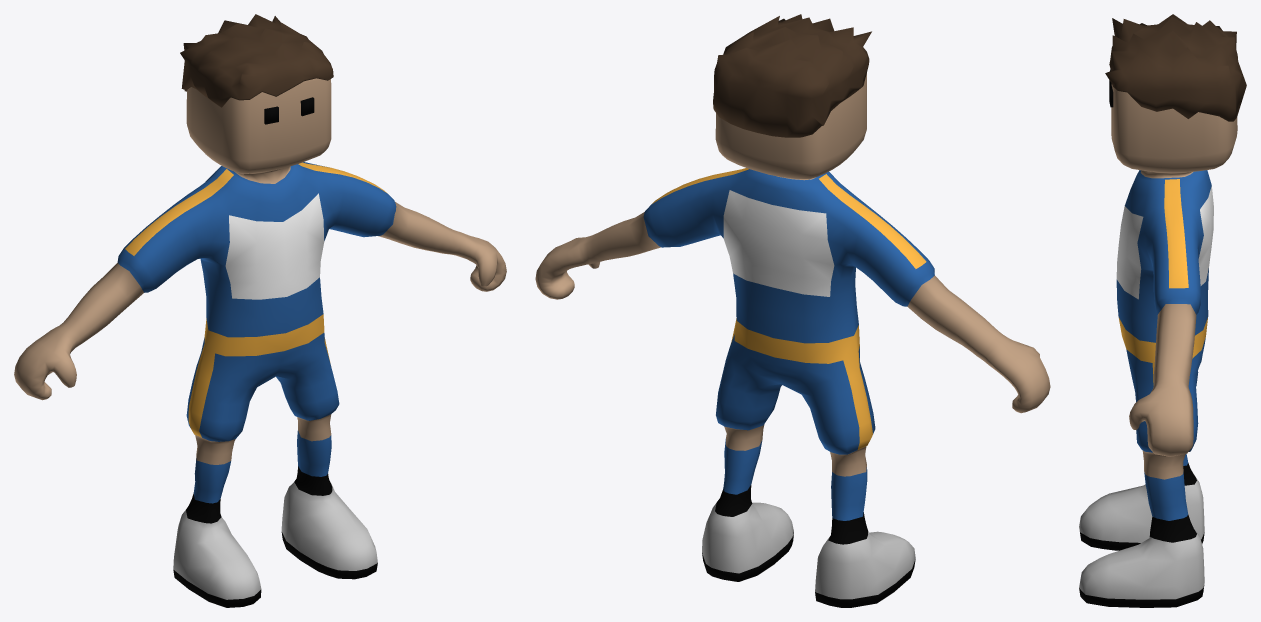
Rendered from player.glb.
3 views of the same model, side by side, from view 1: azimuth 30°, elevation 25°; view 2: azimuth 150°, elevation 25°; view 3: azimuth 270°, elevation 25° (orthographic). The views are drawn at different scales.
Visible parts, largest first — view 1: Player; view 2: Player; view 3: Player.
Boxes of the visible parts, left/top/right/bottom form: Player: left=14, top=14, right=506, bottom=607; Player: left=535, top=14, right=1050, bottom=607; Player: left=1079, top=14, right=1246, bottom=607.
Size of the model in its own units: 1.38 by 1.45 by 0.409.
Materials: 9 (2 with a texture image).
